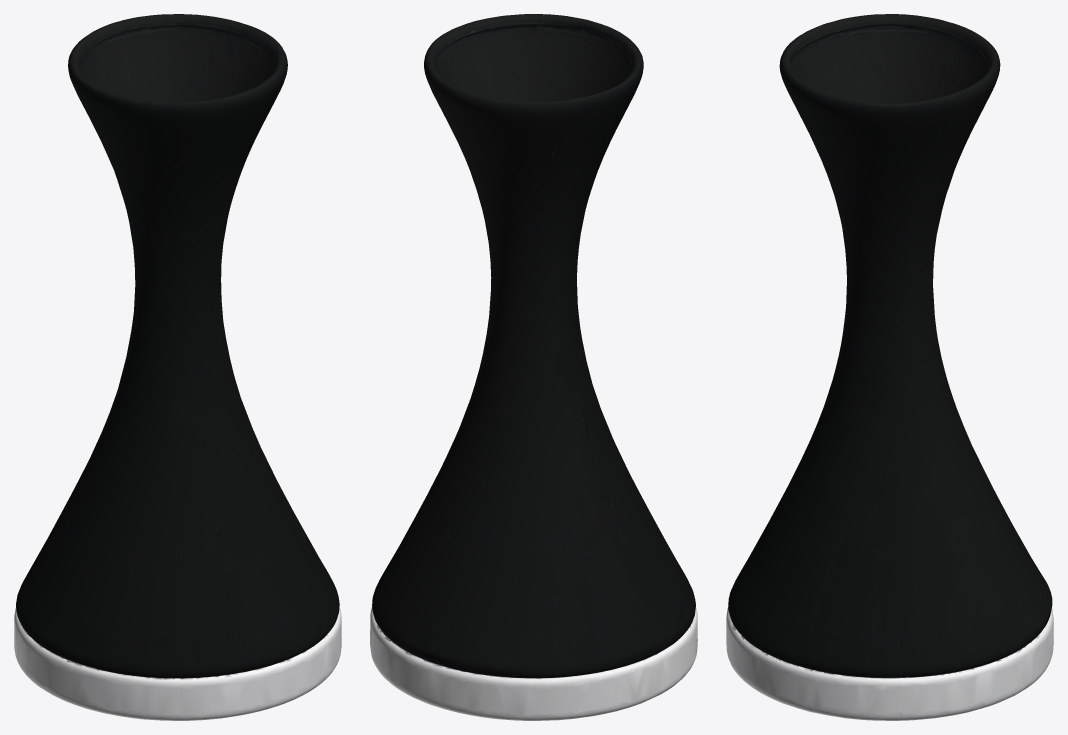
Rendered from pawn-black-hd.glb.
The picture shows the model from 3 angles, left to right: view 1: azimuth 30°, elevation 25°; view 2: azimuth 150°, elevation 25°; view 3: azimuth 270°, elevation 25°; orthographic projection.
Bounding box in the file's own units: 0.4724 × 0.95 × 0.4724.
Materials: 1 (1 with a texture image).
